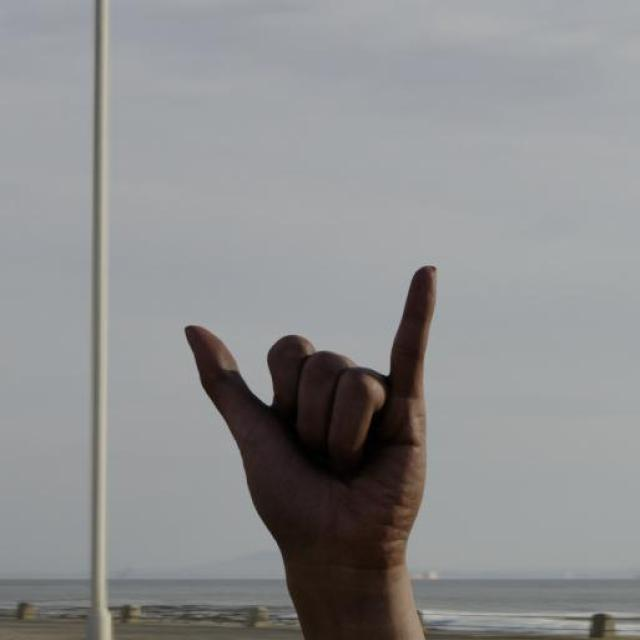Y: (176, 263, 444, 583)
